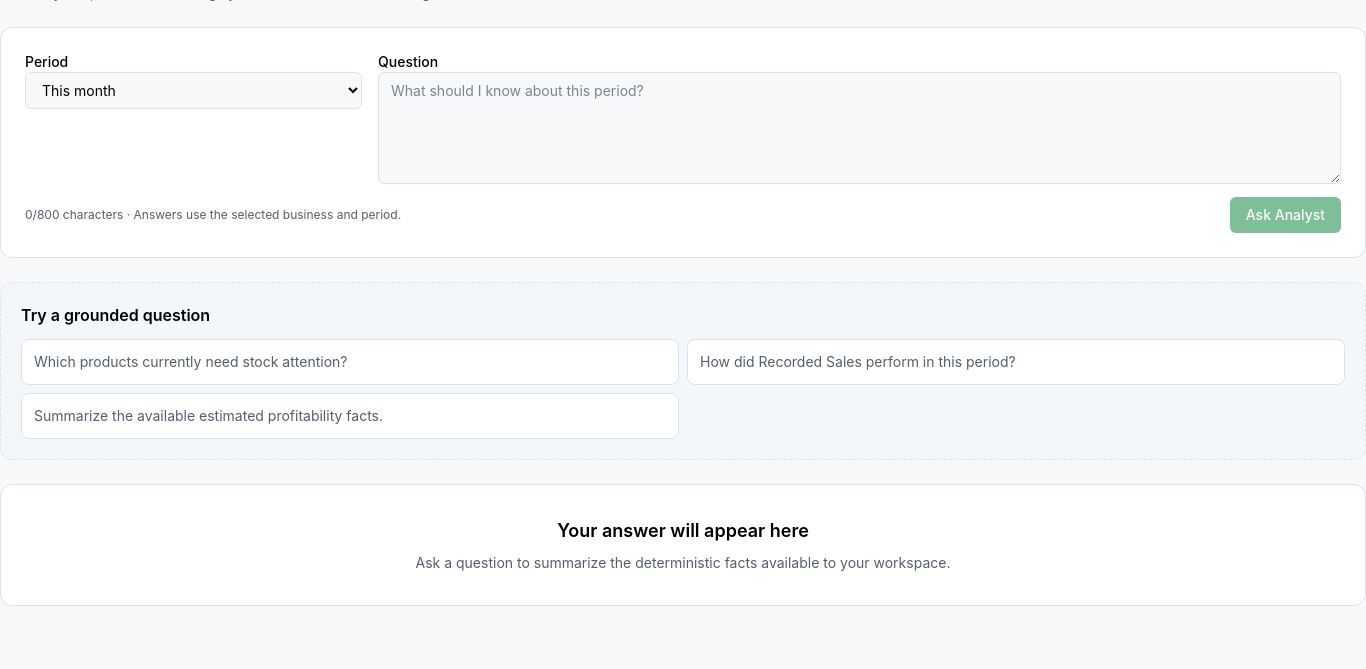
Test: AnalystPage › sends the exact Phase 10B payload and renders answer, evidence, and limitations
Select "Today" in the dropdown named "Analysis period": {"x": 194, "y": 90} [25,72,362,109]
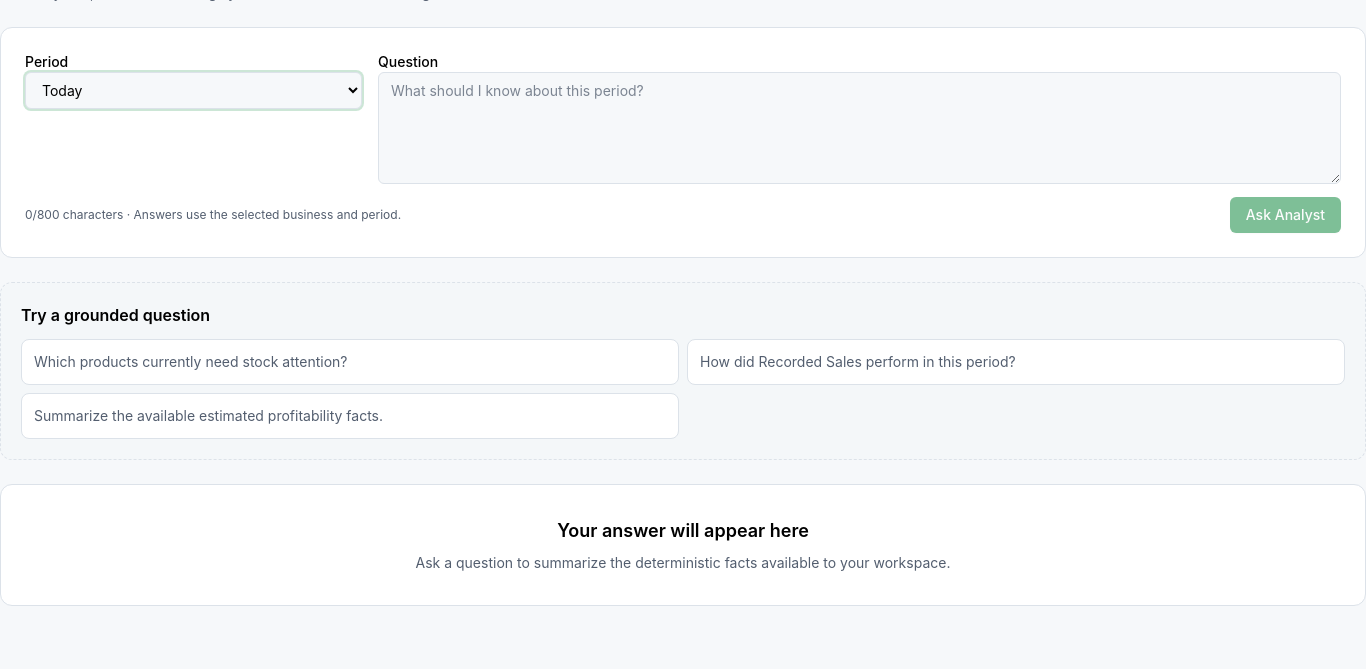
In the text box labelled "Question": {"x": 860, "y": 128} [378,72,1341,184], type "What happened?"
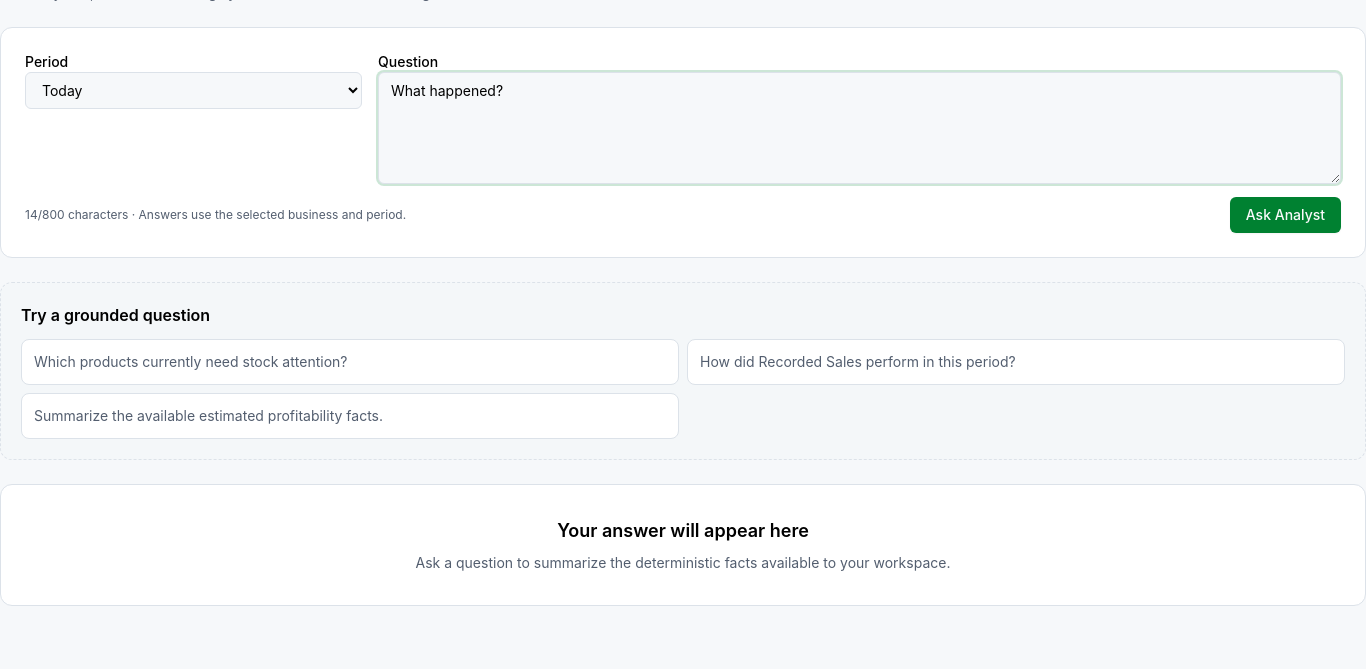
Click the button "Ask Analyst": {"x": 1285, "y": 215} [1230,197,1341,233]
(page scrolled)
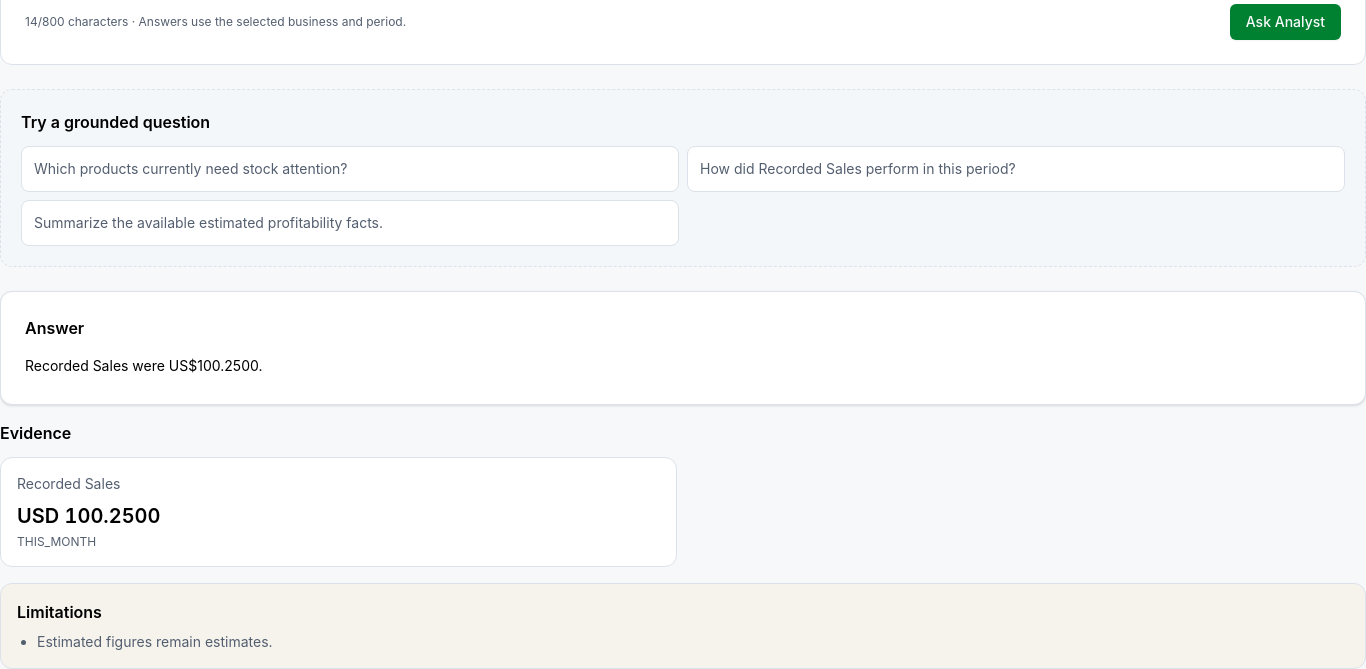
Now the text "Recorded Sales were US$100.2500." is shown, box [25,357,262,374]
Now the text "Recorded Sales" is shown, box [17,475,120,492]
Now the text "USD 100.2500" is shown, box [17,504,160,528]
